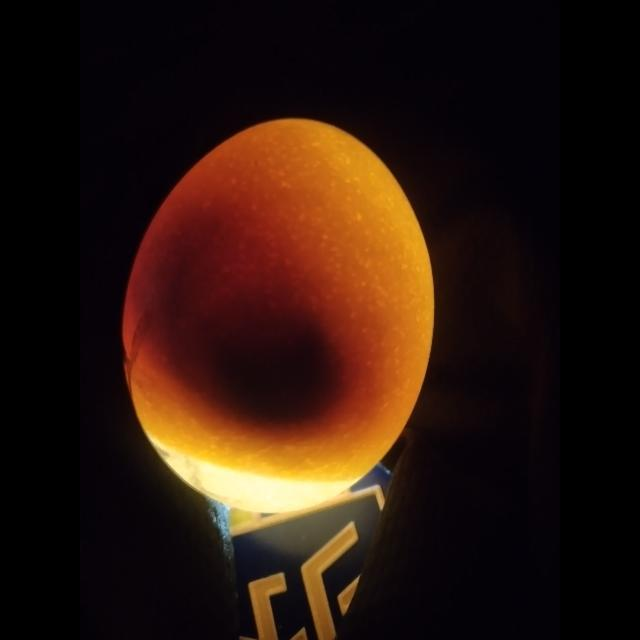Infertile: (122, 108, 444, 522)
